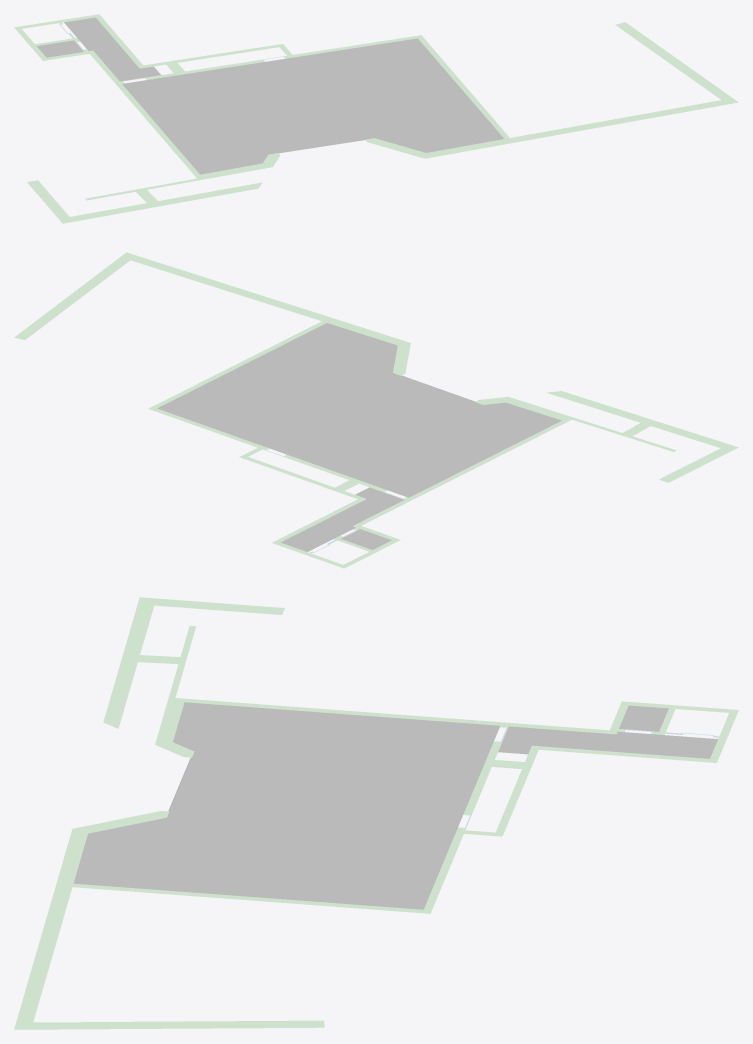
Rendered from floor-488300.glb.
The picture shows the model from 3 angles, top to bottom: view 1: azimuth 30°, elevation 25°; view 2: azimuth 150°, elevation 25°; view 3: azimuth 270°, elevation 25°; orthographic projection. The views are drawn at different scales.
Parts seen in each view (by area): view 1: SectionBody_4,9262e225-3d3e-4223-af8c-39a43748f051, SectionBody_39,79dacf31-d170-4d42-8cd6-e2502d9dd912, SectionBody_5,f5be9884-1ec4-4bdf-83fe-4a4f57898bca, SectionBody_33,188ced9f-8953-4fa2-9da6-4d38ebbba89a, SectionBody_14,817ea7ed-bc4a-429e-8aee-e4c509cef56e, SectionBody_31,56e9920e-9171-40fc-aef1-674cbf696aba, SectionBody_35,97a04eb2-c051-4e70-8a77-125c31b0593a, SectionBody_34,411345c2-e148-4ff6-b8ca-cf33021b04e4, SectionBody_28,4a787c18-0a65-4c3d-a247-b4a747b72b2c, SectionBody_32,5d698d65-98b9-433e-8304-2e90b4b09615, SectionBody_15,f6f1b012-7715-42a3-9133-fb42fe1856f1, SectionBody_13,773b7b34-930c-4fec-8f25-2490a8cc6f6e (+2 smaller); view 2: SectionBody_4,9262e225-3d3e-4223-af8c-39a43748f051, SectionBody_39,79dacf31-d170-4d42-8cd6-e2502d9dd912, SectionBody_5,f5be9884-1ec4-4bdf-83fe-4a4f57898bca, SectionBody_33,188ced9f-8953-4fa2-9da6-4d38ebbba89a, SectionBody_14,817ea7ed-bc4a-429e-8aee-e4c509cef56e, SectionBody_31,56e9920e-9171-40fc-aef1-674cbf696aba, SectionBody_35,97a04eb2-c051-4e70-8a77-125c31b0593a, SectionBody_28,4a787c18-0a65-4c3d-a247-b4a747b72b2c, SectionBody_34,411345c2-e148-4ff6-b8ca-cf33021b04e4; view 3: SectionBody_4,9262e225-3d3e-4223-af8c-39a43748f051, SectionBody_39,79dacf31-d170-4d42-8cd6-e2502d9dd912, SectionBody_5,f5be9884-1ec4-4bdf-83fe-4a4f57898bca, SectionBody_14,817ea7ed-bc4a-429e-8aee-e4c509cef56e, SectionBody_33,188ced9f-8953-4fa2-9da6-4d38ebbba89a, SectionBody_31,56e9920e-9171-40fc-aef1-674cbf696aba, SectionBody_35,97a04eb2-c051-4e70-8a77-125c31b0593a, SectionBody_28,4a787c18-0a65-4c3d-a247-b4a747b72b2c, SectionBody_34,411345c2-e148-4ff6-b8ca-cf33021b04e4, SectionBody_32,5d698d65-98b9-433e-8304-2e90b4b09615, SectionBody_41,ffc838d8-f05f-4896-900f-1263455c88a6, SectionBody_15,f6f1b012-7715-42a3-9133-fb42fe1856f1 (+2 smaller).
Boxes of the visible parts, x1=… form: SectionBody_4,9262e225-3d3e-4223-af8c-39a43748f051: x1=122, y1=38, x2=503, y2=174; SectionBody_39,79dacf31-d170-4d42-8cd6-e2502d9dd912: x1=64, y1=17, x2=160, y2=81; SectionBody_5,f5be9884-1ec4-4bdf-83fe-4a4f57898bca: x1=413, y1=98, x2=738, y2=158; SectionBody_33,188ced9f-8953-4fa2-9da6-4d38ebbba89a: x1=59, y1=182, x2=262, y2=223; SectionBody_14,817ea7ed-bc4a-429e-8aee-e4c509cef56e: x1=615, y1=22, x2=731, y2=99; SectionBody_31,56e9920e-9171-40fc-aef1-674cbf696aba: x1=90, y1=53, x2=199, y2=175; SectionBody_35,97a04eb2-c051-4e70-8a77-125c31b0593a: x1=416, y1=35, x2=509, y2=138; SectionBody_34,411345c2-e148-4ff6-b8ca-cf33021b04e4: x1=37, y1=40, x2=83, y2=57; SectionBody_28,4a787c18-0a65-4c3d-a247-b4a747b72b2c: x1=27, y1=180, x2=69, y2=218; SectionBody_32,5d698d65-98b9-433e-8304-2e90b4b09615: x1=138, y1=44, x2=284, y2=68; SectionBody_15,f6f1b012-7715-42a3-9133-fb42fe1856f1: x1=287, y1=36, x2=417, y2=57; SectionBody_13,773b7b34-930c-4fec-8f25-2490a8cc6f6e: x1=120, y1=56, x2=288, y2=83; SectionBody_4,9262e225-3d3e-4223-af8c-39a43748f051: x1=157, y1=323, x2=561, y2=497; SectionBody_39,79dacf31-d170-4d42-8cd6-e2502d9dd912: x1=281, y1=487, x2=404, y2=551; SectionBody_5,f5be9884-1ec4-4bdf-83fe-4a4f57898bca: x1=121, y1=252, x2=410, y2=349; SectionBody_33,188ced9f-8953-4fa2-9da6-4d38ebbba89a: x1=547, y1=391, x2=738, y2=451; SectionBody_14,817ea7ed-bc4a-429e-8aee-e4c509cef56e: x1=14, y1=257, x2=129, y2=339; SectionBody_31,56e9920e-9171-40fc-aef1-674cbf696aba: x1=357, y1=420, x2=566, y2=525; SectionBody_35,97a04eb2-c051-4e70-8a77-125c31b0593a: x1=148, y1=321, x2=326, y2=410; SectionBody_28,4a787c18-0a65-4c3d-a247-b4a747b72b2c: x1=659, y1=448, x2=730, y2=482; SectionBody_34,411345c2-e148-4ff6-b8ca-cf33021b04e4: x1=341, y1=529, x2=391, y2=549; SectionBody_4,9262e225-3d3e-4223-af8c-39a43748f051: x1=73, y1=702, x2=499, y2=909; SectionBody_39,79dacf31-d170-4d42-8cd6-e2502d9dd912: x1=498, y1=726, x2=717, y2=758; SectionBody_5,f5be9884-1ec4-4bdf-83fe-4a4f57898bca: x1=14, y1=825, x2=90, y2=1029; SectionBody_14,817ea7ed-bc4a-429e-8aee-e4c509cef56e: x1=31, y1=1020, x2=324, y2=1029; SectionBody_33,188ced9f-8953-4fa2-9da6-4d38ebbba89a: x1=103, y1=597, x2=156, y2=728; SectionBody_31,56e9920e-9171-40fc-aef1-674cbf696aba: x1=184, y1=698, x2=609, y2=733; SectionBody_35,97a04eb2-c051-4e70-8a77-125c31b0593a: x1=72, y1=883, x2=431, y2=913; SectionBody_28,4a787c18-0a65-4c3d-a247-b4a747b72b2c: x1=154, y1=598, x2=284, y2=614; SectionBody_34,411345c2-e148-4ff6-b8ca-cf33021b04e4: x1=619, y1=705, x2=668, y2=731; SectionBody_32,5d698d65-98b9-433e-8304-2e90b4b09615: x1=494, y1=745, x2=539, y2=836; SectionBody_41,ffc838d8-f05f-4896-900f-1263455c88a6: x1=539, y1=746, x2=717, y2=762; SectionBody_15,f6f1b012-7715-42a3-9133-fb42fe1856f1: x1=424, y1=829, x2=465, y2=910.
Size of the model in its own units: 30107 by 0 by 21325.
